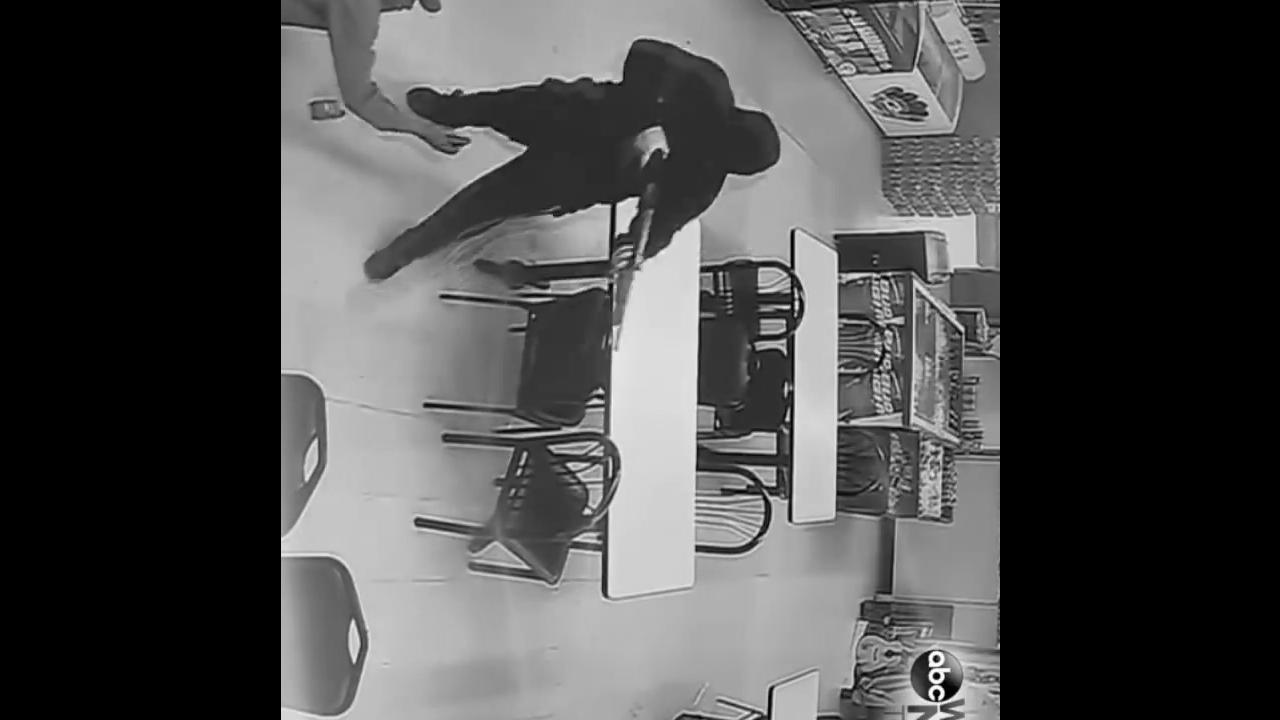gun: (580, 121, 680, 350)
